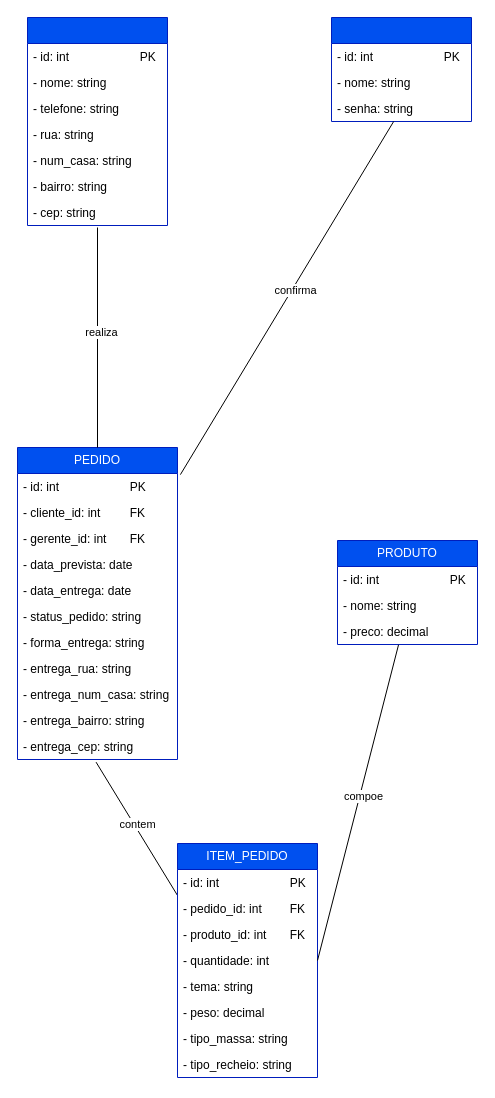
The diagram is 495 pixels wide and 1098 high, and some of its shapes have lost their labels. Here are the shapes that lost their labels. From the top down, the box of each, then its label:
(330, 16, 472, 122): GERENTE
(26, 16, 168, 226): CLIENTE
